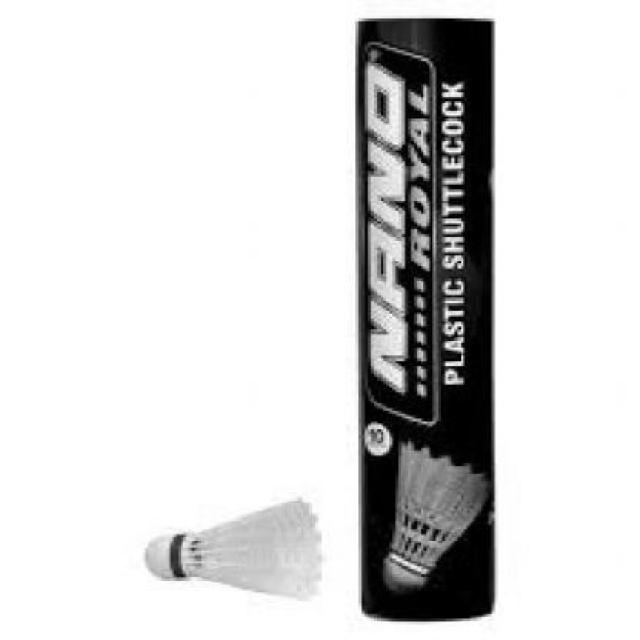Shuttlecock: (140, 497, 328, 601)
